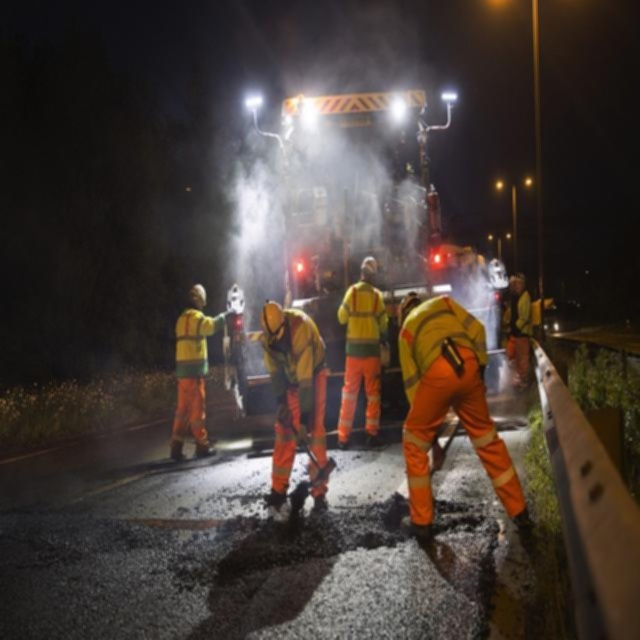Con_Casco: (260, 299, 284, 348), (360, 255, 377, 281)
Con_Chaleco: (347, 282, 381, 353), (176, 310, 209, 379)
